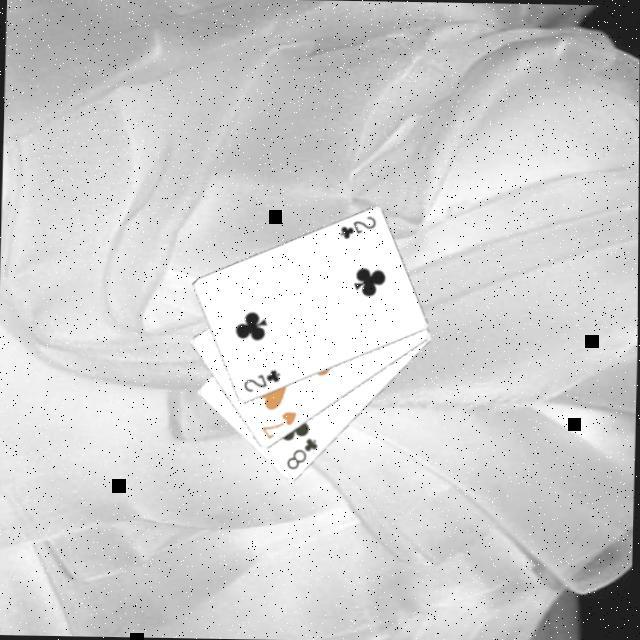2C: (336, 211, 379, 242), (242, 364, 284, 394)
7H: (258, 406, 301, 442)
8C: (284, 433, 322, 472)
